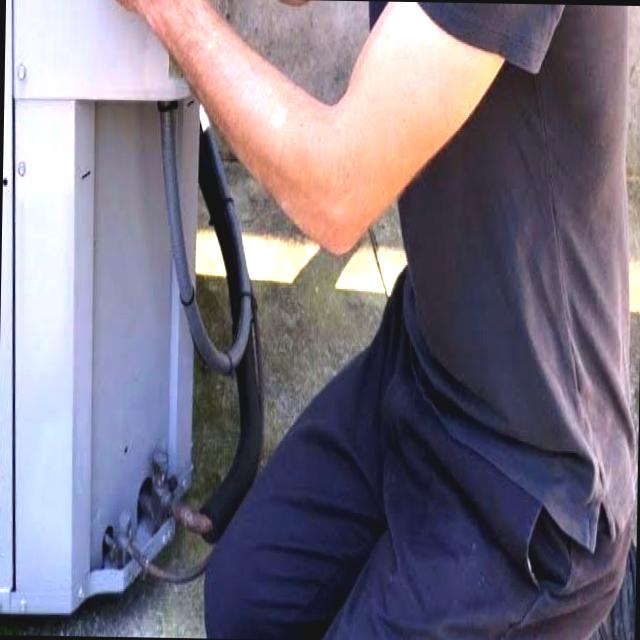SPLIT-SYSTEM: (0, 0, 231, 627)
